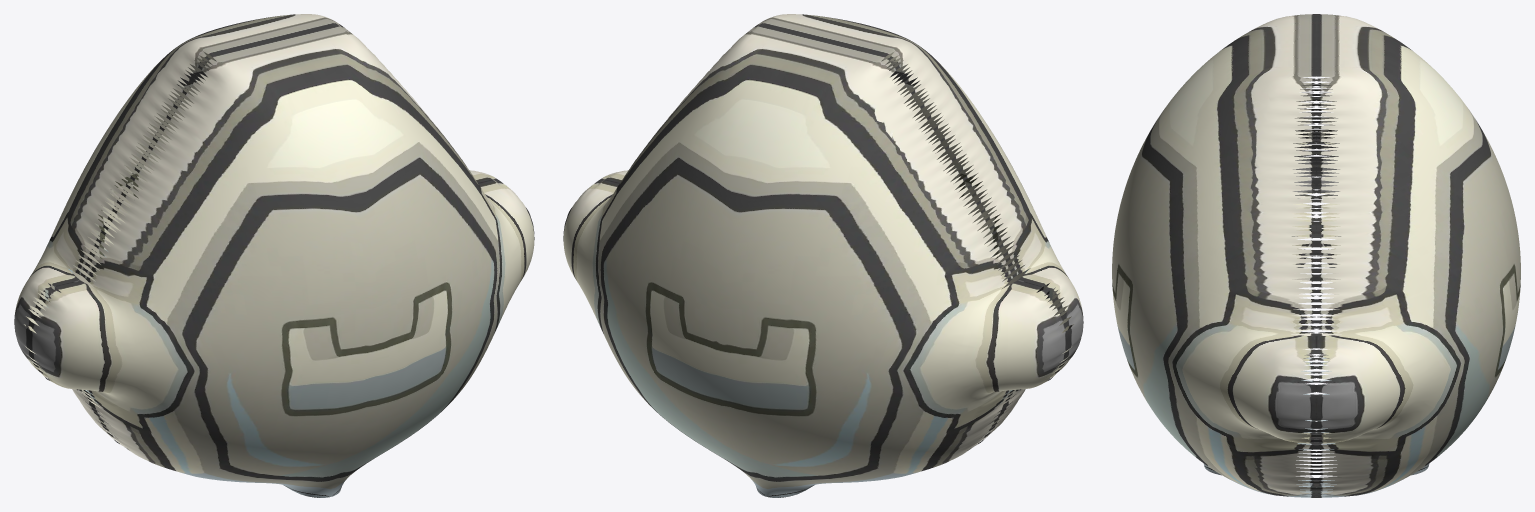
File: airlock_hatch.glb
3 renders of one model, left to right at view 1: azimuth 30°, elevation 25°; view 2: azimuth 150°, elevation 25°; view 3: azimuth 270°, elevation 25°, orthographic.
Visible parts, largest first — view 1: airlock_hatch; view 2: airlock_hatch; view 3: airlock_hatch.
Boxes of the visible parts, box(x1,y1,x2,y2) form: airlock_hatch: box(14, 14, 534, 497); airlock_hatch: box(563, 14, 1083, 497); airlock_hatch: box(1112, 14, 1520, 497).
Size of the model in its own units: 0.9889 by 0.8034 by 0.7078.
Materials: 1 (1 with a texture image).
